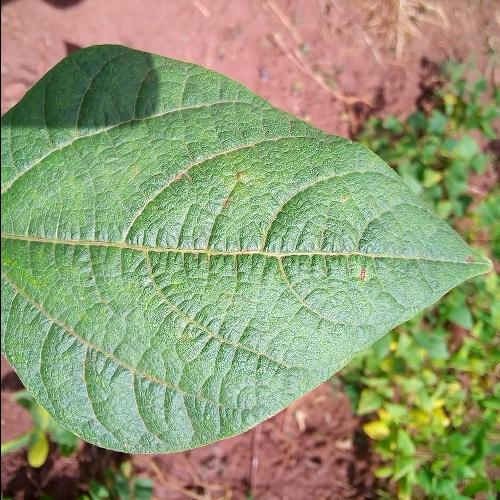hawar: (346, 260, 372, 288)
mozaik: (21, 131, 324, 360)
